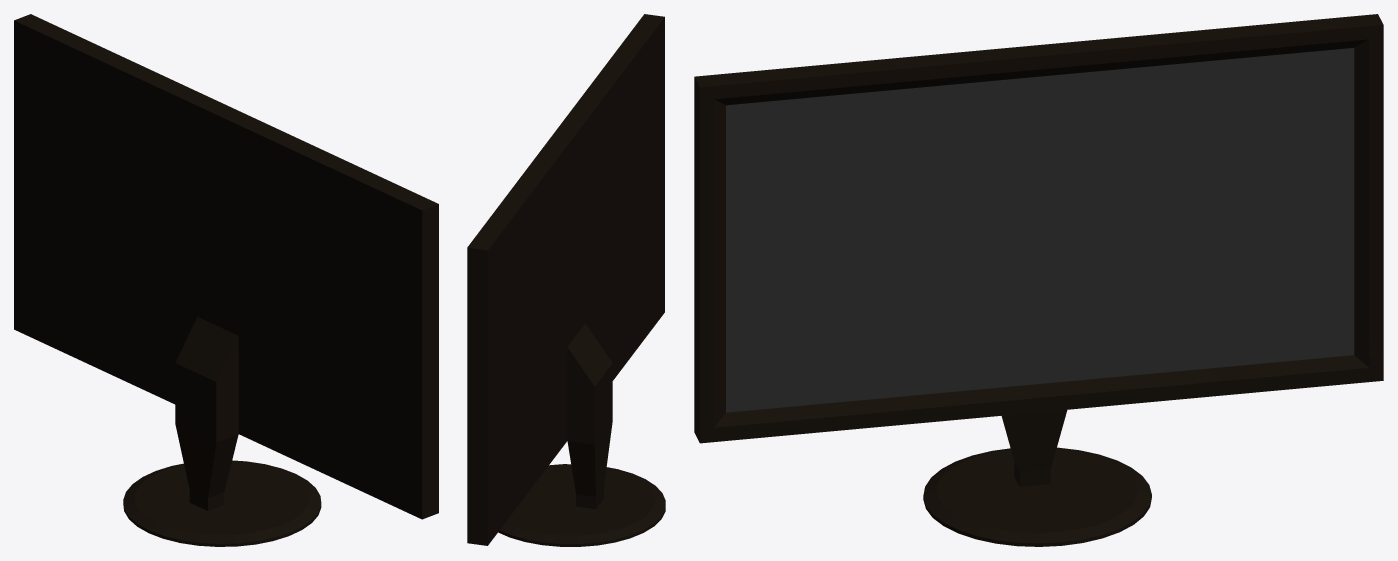
Rendered from screen1mesh.gltf.
3 views of the same model, side by side, from view 1: azimuth 30°, elevation 25°; view 2: azimuth 150°, elevation 25°; view 3: azimuth 270°, elevation 25° (orthographic). The views are drawn at different scales.
Visible parts, largest first — view 1: PC_Monitor; view 2: PC_Monitor; view 3: PC_Monitor.
Part boxes in pixels (<box>): PC_Monitor: <box>14,14,438,546</box>; PC_Monitor: <box>467,14,665,546</box>; PC_Monitor: <box>694,14,1383,546</box>.
Size of the model in its own units: 5.2 by 11.31 by 15.67.
Materials: 2 (2 with a texture image).
